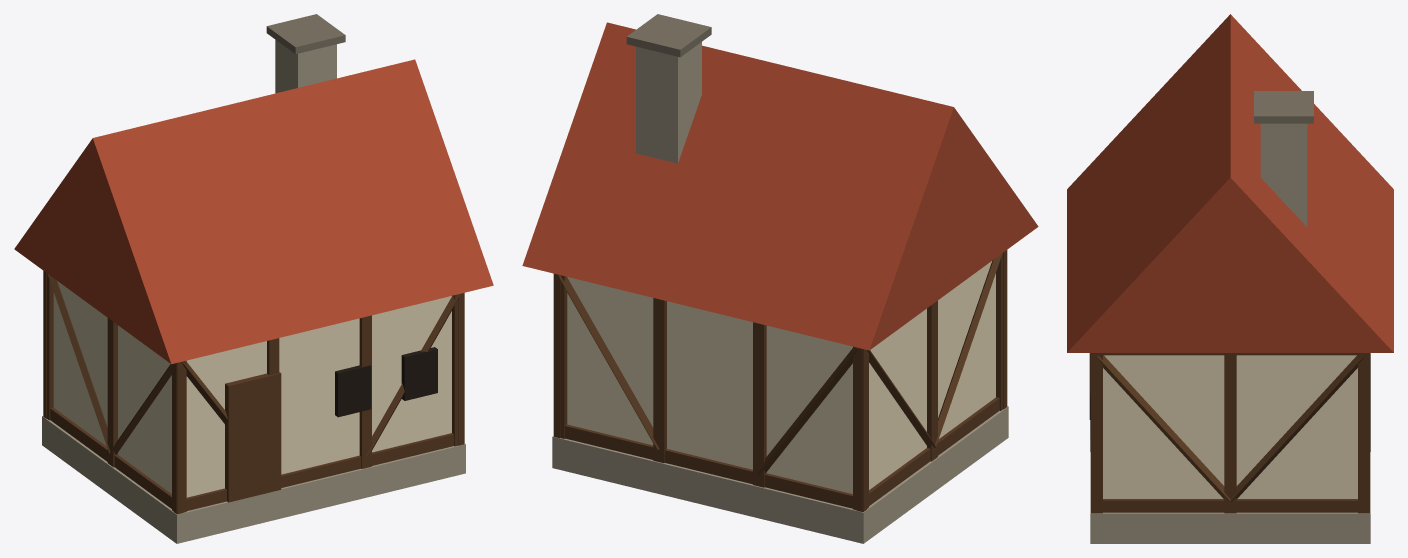
Rendered from settlement_house.glb.
3 renders of one model, left to right at view 1: azimuth 30°, elevation 25°; view 2: azimuth 150°, elevation 25°; view 3: azimuth 270°, elevation 25°, orthographic. The views are drawn at different scales.
Parts seen in each view (by area): view 1: settlement_house; view 2: settlement_house; view 3: settlement_house.
Part boxes in pixels (bbox=[...]): settlement_house: bbox=[14, 14, 493, 543]; settlement_house: bbox=[522, 14, 1038, 543]; settlement_house: bbox=[1067, 14, 1393, 543].
Size of the model in its own units: 5.8 by 6.72 by 4.9.
